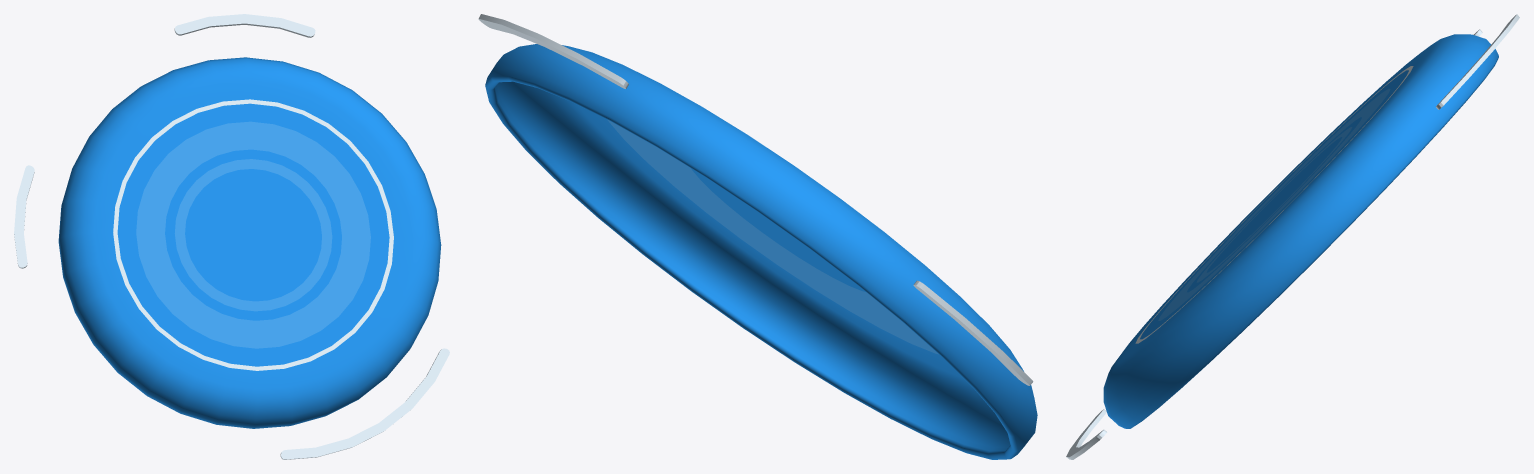
File: flying_disc.glb
3 renders of one model, left to right at view 1: azimuth 30°, elevation 25°; view 2: azimuth 150°, elevation 25°; view 3: azimuth 270°, elevation 25°, orthographic. The views are drawn at different scales.
Visible parts, largest first — view 1: Circle.2518, Circle.2519; view 2: Circle.2518, Circle.2519; view 3: Circle.2518, Circle.2519.
Part boxes in pixels (x1=…): Circle.2518: x1=58, y1=57, x2=441, y2=428; Circle.2519: x1=14, y1=14, x2=449, y2=459; Circle.2518: x1=485, y1=44, x2=1037, y2=459; Circle.2519: x1=478, y1=14, x2=1033, y2=385; Circle.2518: x1=1103, y1=34, x2=1498, y2=428; Circle.2519: x1=1066, y1=14, x2=1519, y2=459.
Bounding box in the file's own units: 2.31 × 1.96 × 1.83.
Materials: 1 (1 with a texture image).
